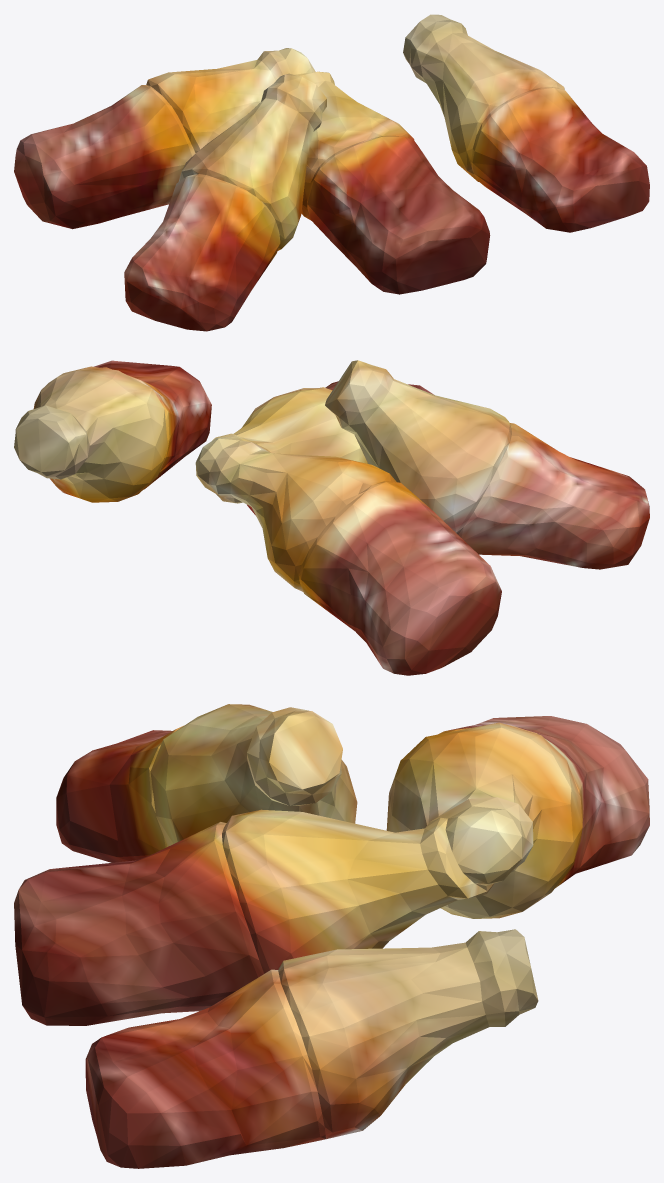
Rendered from HariboCo.fbx.
3 renders of one model, top to bottom at view 1: azimuth 30°, elevation 25°; view 2: azimuth 150°, elevation 25°; view 3: azimuth 270°, elevation 25°, orthographic. The views are drawn at different scales.
Parts seen in each view (by area): view 1: Mesh1.0; view 2: Mesh1.0; view 3: Mesh1.0.
Part boxes in pixels (x1,y1,x2,y2): Mesh1.0: (14, 14, 649, 331); Mesh1.0: (14, 360, 649, 675); Mesh1.0: (14, 704, 649, 1168).
Size of the model in its own units: 190 by 56.72 by 137.
